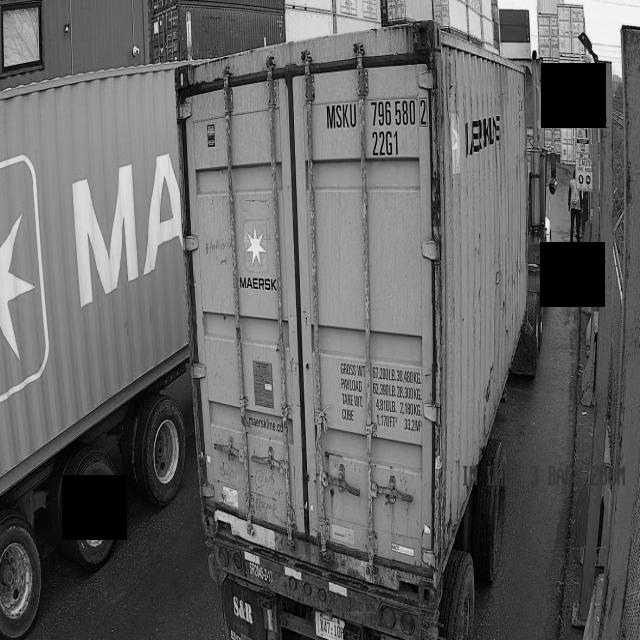container_company_logo: (240, 219, 277, 290)
container_number: (317, 85, 454, 167)
driver: (568, 168, 581, 245)
other_container_info: (339, 352, 426, 436)
truck_with_container: (176, 21, 556, 640), (0, 65, 189, 640)
